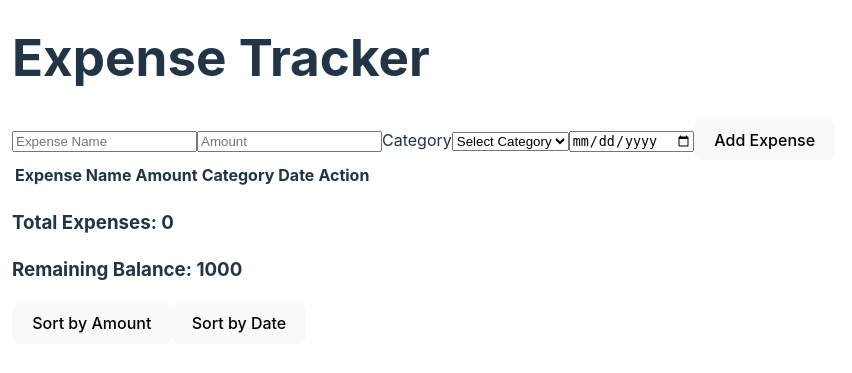
it: should add an expense to the list and update total
Type "Lunch" into the field with placeholder "Expense Name".
click(104, 141); type("Lunch")  # box [12,131,197,152]
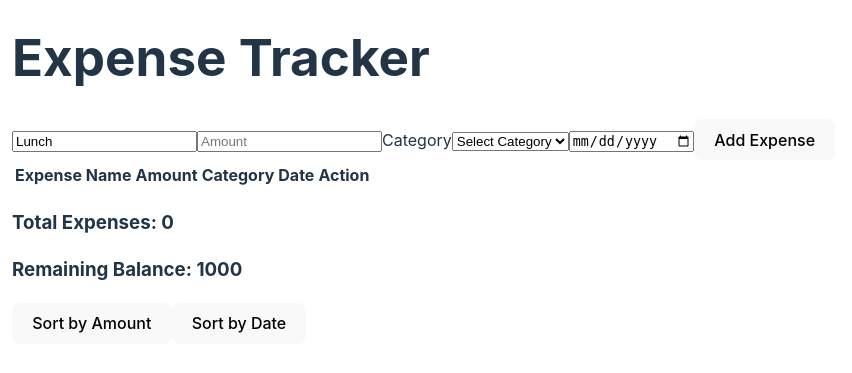
Type "20" into the number field with placeholder "Amount".
click(290, 141); type("20")  # box [197,131,382,152]
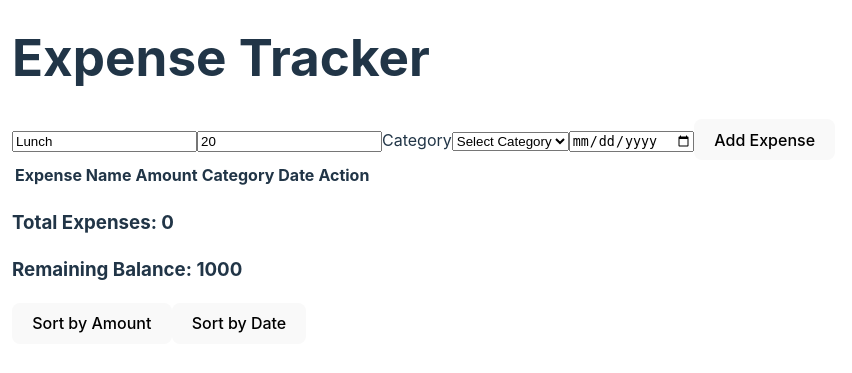
Select "Food" in the dropdown at x=510, y=141, box [452,132,569,151]
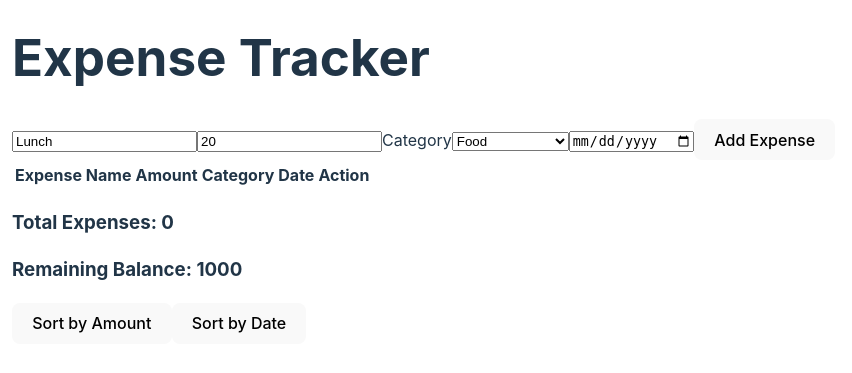
Type "2025-01-19" into the date field with placeholder "Date".
click(631, 141); type("2025-01-19")  # box [569,130,694,152]
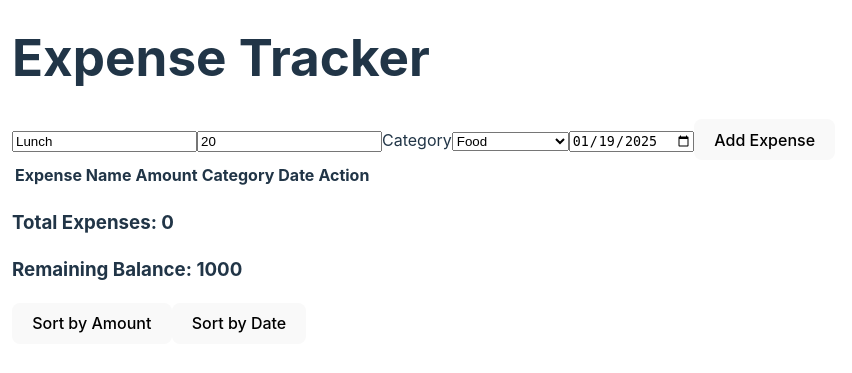
Click the button "Add Expense".
click(765, 140)  # box [694,119,835,160]
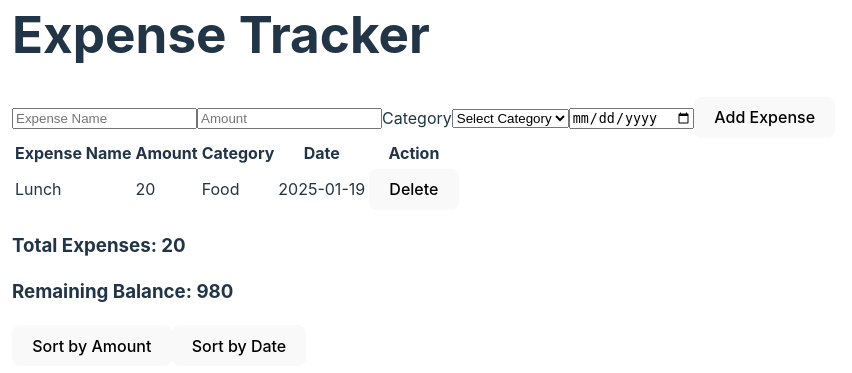
Check: the text "Lunch" is shown, box [14,168,132,211]
Check: the text "20" is shown, box [134,168,199,211]
Check: the heading "Total Expenses: 20" is shown, box [12,234,186,257]
